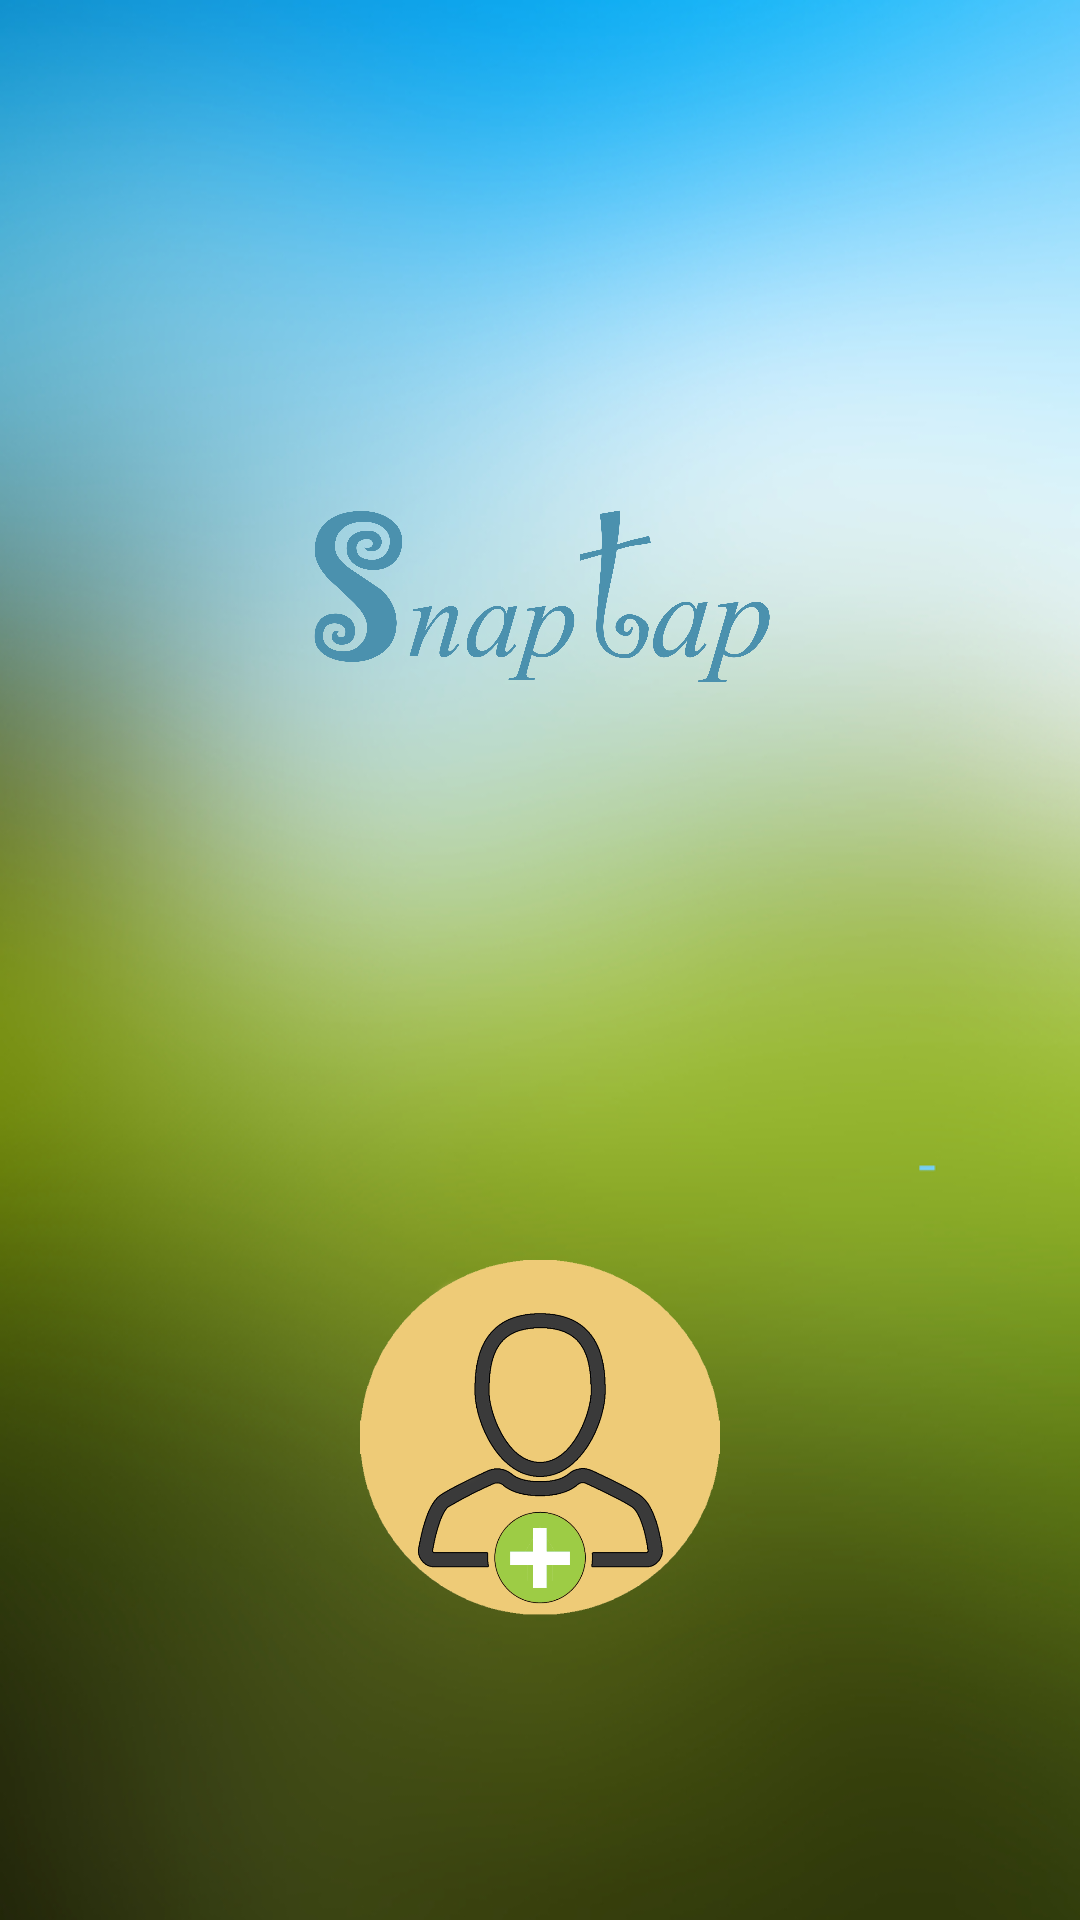

Icon click points for this 1080px x 1920px phone screenshot, format point (x, y):
tambah user: point (540, 1437)
